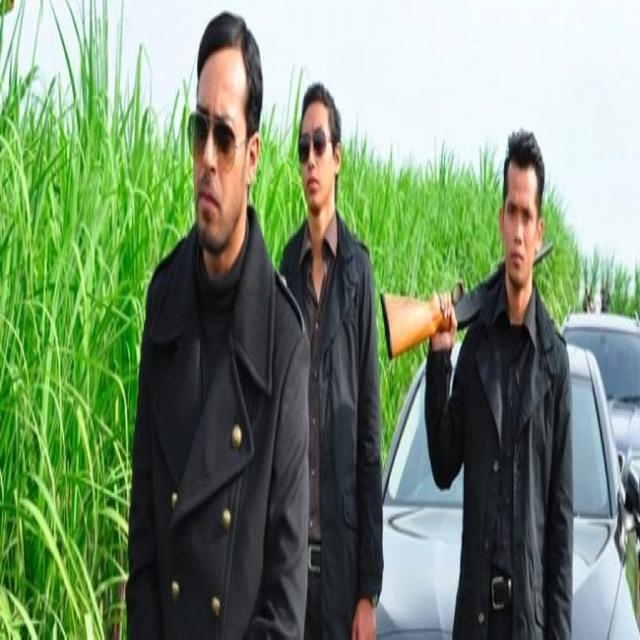nomask: (192, 67, 245, 241), (504, 168, 536, 285), (300, 105, 332, 209)
